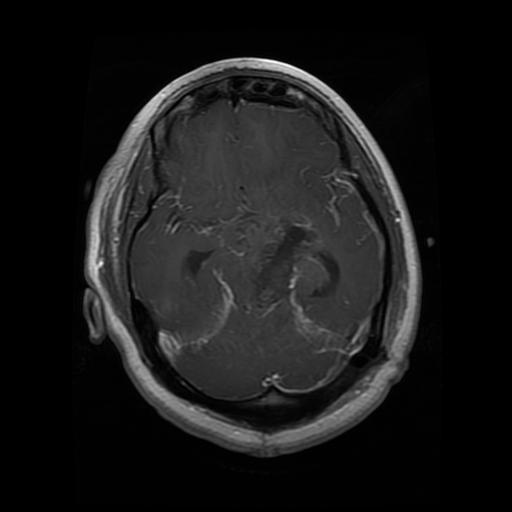Gliomia_tumour: (249, 221, 340, 313)
